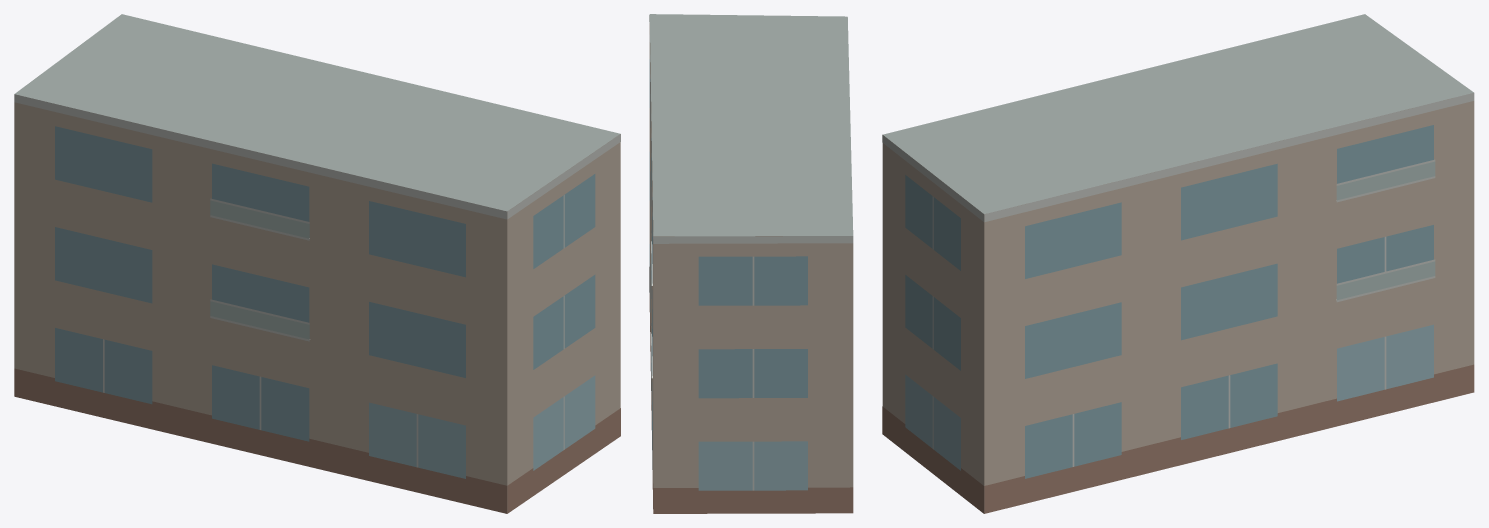
File: survey-upis-32597781.glb
3 renders of one model, left to right at view 1: azimuth 30°, elevation 25°; view 2: azimuth 150°, elevation 25°; view 3: azimuth 270°, elevation 25°, orthographic. The views are drawn at different scales.
Parts seen in each view (by area): view 1: survey-upis-32597781.tmp; view 2: survey-upis-32597781.tmp; view 3: survey-upis-32597781.tmp.
Part boxes in pixels (bbox=[...]): survey-upis-32597781.tmp: bbox=[14, 14, 620, 513]; survey-upis-32597781.tmp: bbox=[649, 14, 853, 513]; survey-upis-32597781.tmp: bbox=[882, 14, 1474, 513].
Bounding box in the file's own units: 13.05 × 9.1 × 16.3.
